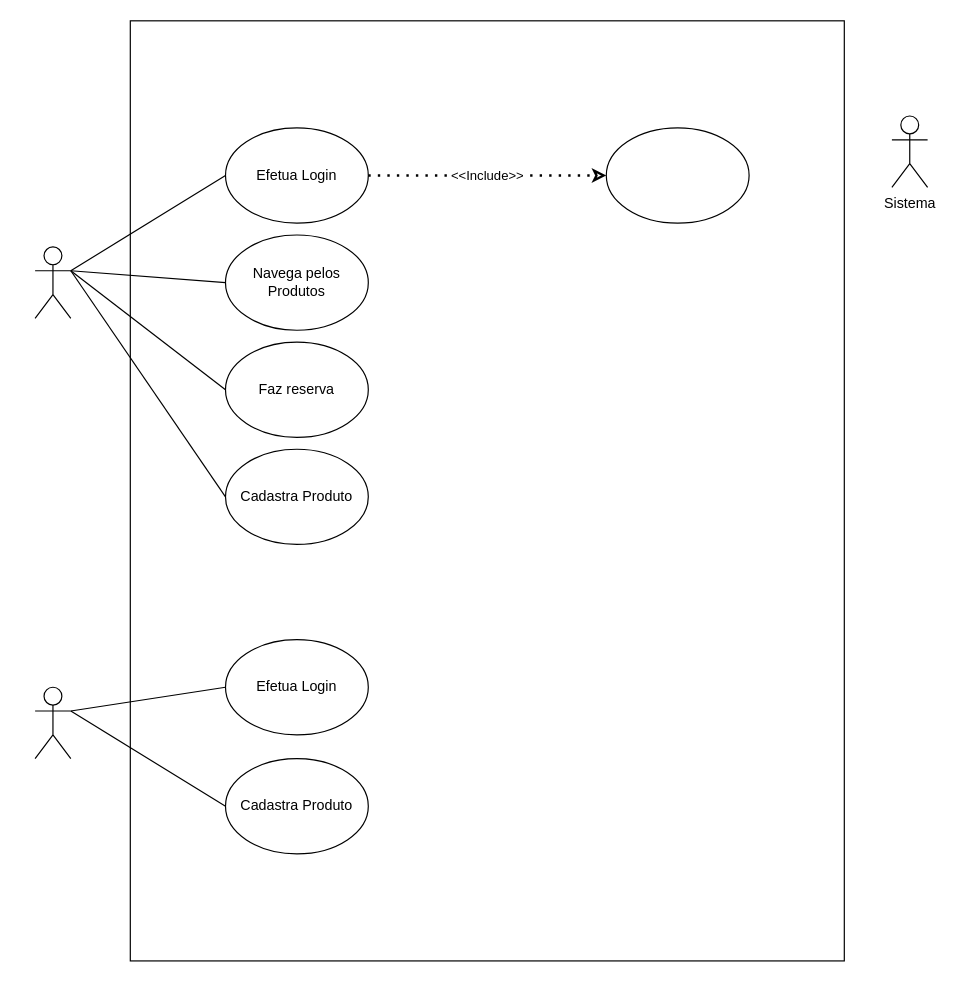
The diagram is 956 pixels wide and 982 high, and some of its shapes have lost their labels. Here are the shapes that lost their labels. From the top down, the centre of each, then its label:
At [677,175]: "Verificar Senha".
At [52,282]: "Cliente".
At [52,722]: "Instituicao".
